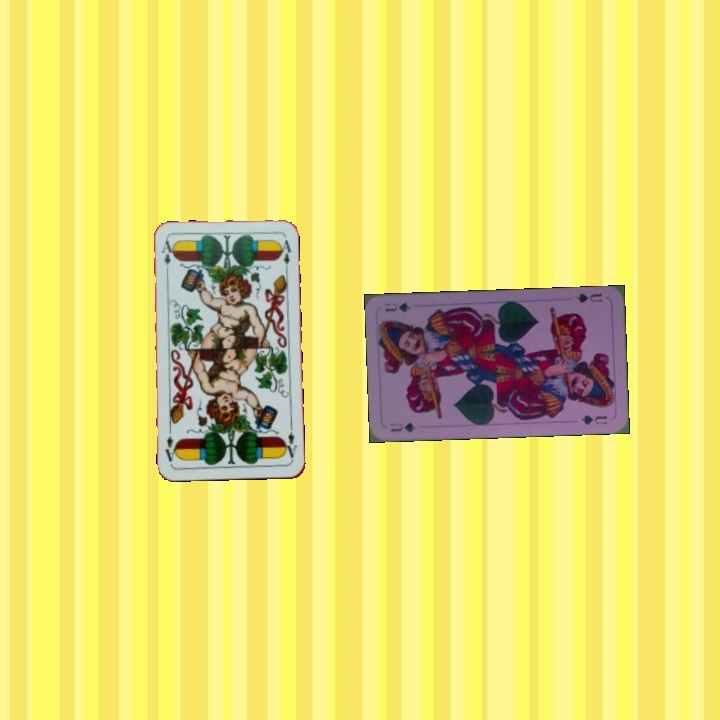EA: (280, 421, 300, 462), (157, 236, 174, 277)
GU: (386, 419, 418, 435), (572, 290, 604, 305)
